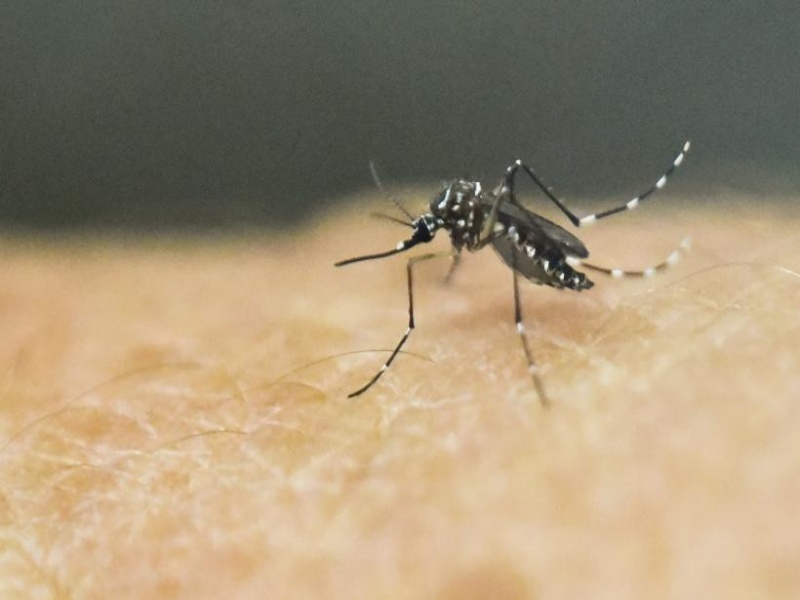dengue_mosquito: (369, 158, 637, 288)
